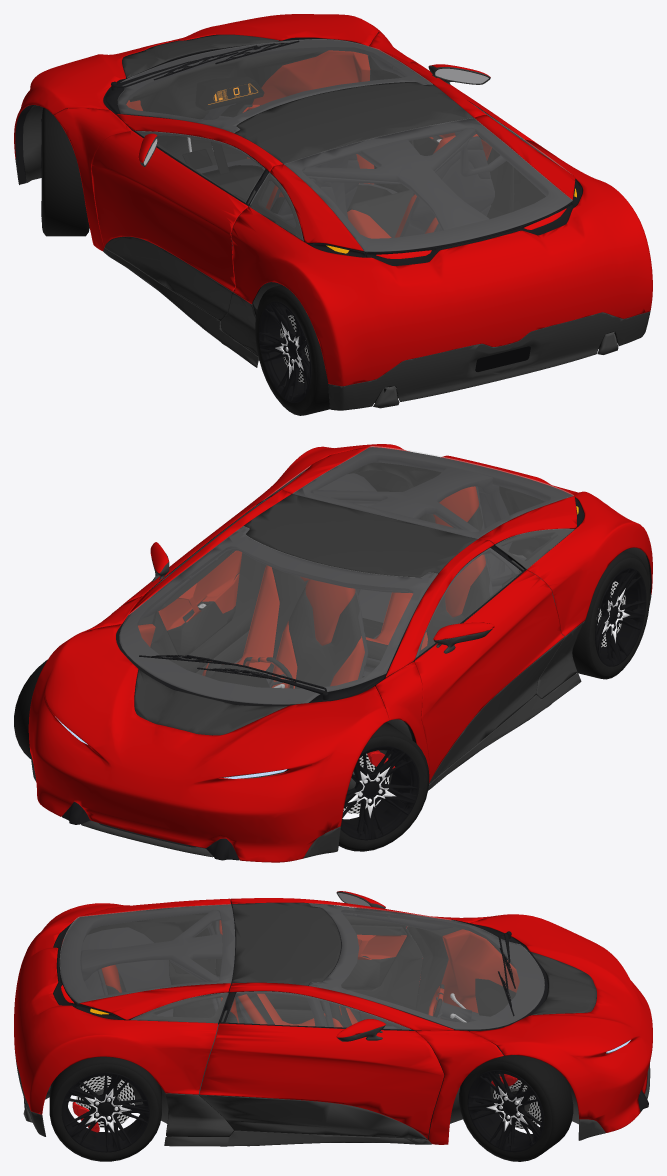
File: CarConcept.glb
The picture shows the model from 3 angles, top to bottom: view 1: azimuth 30°, elevation 25°; view 2: azimuth 150°, elevation 25°; view 3: azimuth 270°, elevation 25°; orthographic projection. The views are drawn at different scales.
Parts seen in each view (by area): view 1: BodyRearPanelsColor1, BodyWindshield, BodyRoofPanel, BodyWindshieldGasket, InteriorDashMid, object 21, InteriorDashSides, WheelFrontLRim, InteriorSeatsColor2, BodyUnderside, InteriorFloormats, InteriorSteeringDash (+3 smaller); view 2: BodyRearPanelsColor1, BodyWindshield, BodyWindshieldGasket, BodyRoofPanel, InteriorDashSides, InteriorDashMid, WheelFrontLRim, InteriorSeatsColor2, object 21, InteriorMid, BodyUnderside, InteriorSteeringDash; view 3: BodyRearPanelsColor1, BodyWindshield, BodyRoofPanel, BodyWindshieldGasket, object 21, WheelFrontLRim, InteriorDashMid, InteriorDashSides, InteriorMid, WheelFrontLBrakeDisc, BodyUnderside, InteriorSeatsColor2 (+1 smaller).
Boxes of the visible parts, left/top/right/bottom form: BodyRearPanelsColor1: left=14, top=14, right=652, bottom=386; BodyWindshield: left=118, top=39, right=572, bottom=251; BodyRoofPanel: left=15, top=34, right=650, bottom=410; BodyWindshieldGasket: left=15, top=32, right=600, bottom=346; InteriorDashMid: left=126, top=46, right=617, bottom=402; object 21: left=42, top=108, right=616, bottom=415; InteriorDashSides: left=126, top=50, right=491, bottom=238; WheelFrontLRim: left=41, top=119, right=311, bottom=402; InteriorSeatsColor2: left=219, top=175, right=414, bottom=237; BodyUnderside: left=23, top=105, right=618, bottom=408; InteriorFloormats: left=182, top=141, right=391, bottom=206; InteriorSteeringDash: left=195, top=76, right=264, bottom=110; BodyRearPanelsColor1: left=28, top=444, right=652, bottom=862; BodyWindshield: left=119, top=446, right=574, bottom=704; BodyWindshieldGasket: left=62, top=447, right=650, bottom=860; BodyRoofPanel: left=30, top=494, right=651, bottom=858; InteriorDashSides: left=138, top=486, right=485, bottom=771; InteriorDashMid: left=151, top=462, right=651, bottom=705; WheelFrontLRim: left=340, top=567, right=646, bottom=840; InteriorSeatsColor2: left=205, top=506, right=490, bottom=688; object 21: left=14, top=551, right=649, bottom=851; InteriorMid: left=121, top=600, right=575, bottom=746; BodyUnderside: left=74, top=547, right=650, bottom=845; InteriorSteeringDash: left=210, top=664, right=269, bottom=687; BodyRearPanelsColor1: left=14, top=891, right=652, bottom=1144; BodyWindshield: left=60, top=903, right=544, bottom=1029; BodyRoofPanel: left=14, top=891, right=650, bottom=1146; BodyWindshieldGasket: left=53, top=900, right=648, bottom=1143; object 21: left=49, top=1053, right=573, bottom=1161; WheelFrontLRim: left=61, top=1070, right=544, bottom=1152; InteriorDashMid: left=25, top=907, right=548, bottom=1108; InteriorDashSides: left=101, top=920, right=519, bottom=1027; InteriorMid: left=167, top=921, right=461, bottom=1142; WheelFrontLBrakeDisc: left=76, top=1075, right=541, bottom=1128; BodyUnderside: left=23, top=926, right=627, bottom=1124; InteriorSeatsColor2: left=106, top=972, right=362, bottom=1027.
Bounding box in the file's own units: 2.63 × 1.19 × 4.5.
Materials: 23 (2 with a texture image).
